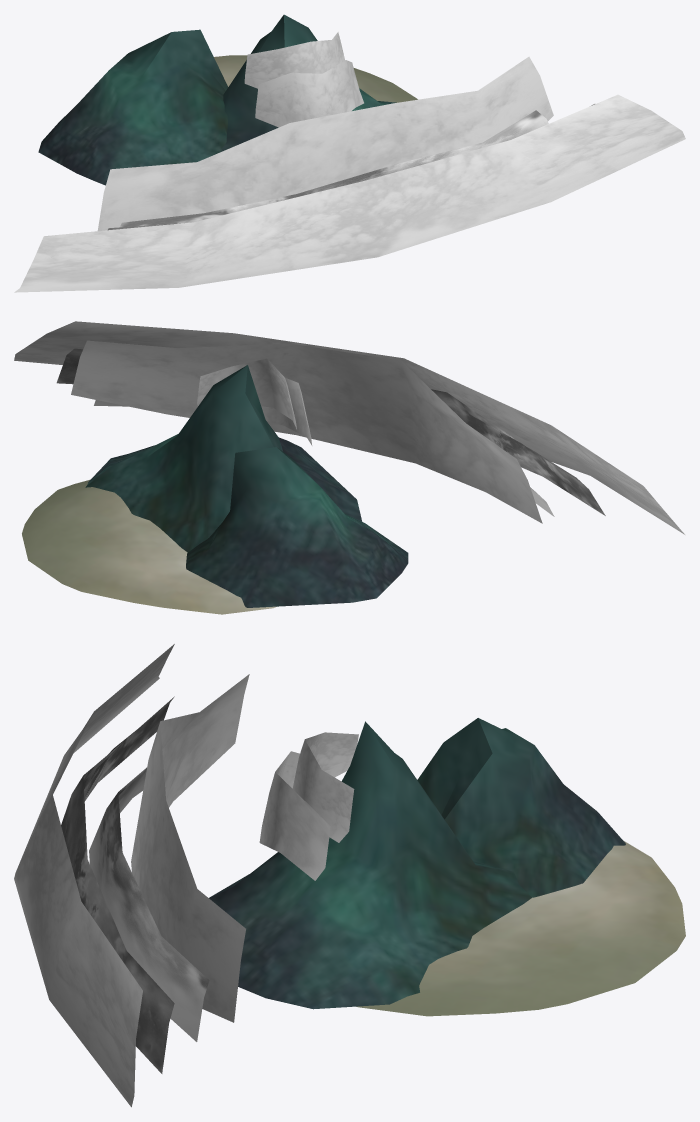
Rendered from pir_m_are_isl_mysterious_06_dock_lod.fbx.
3 views of the same model, one above another, from view 1: azimuth 30°, elevation 25°; view 2: azimuth 150°, elevation 25°; view 3: azimuth 270°, elevation 25° (orthographic). The views are drawn at different scales.
Parts seen in each view (by area): view 1: base_fog2, base_fog, hill1, base_fog6, hill, base_fog5, base_fog3, ground; view 2: base_fog, hill1, hill, ground, base_fog2, base_fog4, base_fog3, base_fog6; view 3: hill, ground, hill1, base_fog2, base_fog, base_fog5, base_fog4, base_fog6, base_fog3.
Boxes of the visible parts, <box> form: base_fog2: <box>14,94,685,292</box>; base_fog: <box>97,56,553,230</box>; hill1: <box>38,29,228,185</box>; base_fog6: <box>255,60,363,127</box>; hill: <box>221,14,396,151</box>; base_fog5: <box>120,110,548,227</box>; base_fog3: <box>244,32,344,88</box>; ground: <box>214,55,417,102</box>; base_fog: <box>71,340,542,523</box>; hill1: <box>186,447,408,607</box>; hill: <box>85,365,361,552</box>; ground: <box>22,480,276,614</box>; base_fog2: <box>14,321,684,534</box>; base_fog4: <box>56,348,605,515</box>; base_fog3: <box>197,358,296,429</box>; base_fog6: <box>261,377,312,445</box>; hill: <box>209,721,531,1009</box>; ground: <box>356,840,685,1016</box>; hill1: <box>417,718,625,897</box>; base_fog2: <box>14,644,174,1107</box>; base_fog: <box>131,674,249,1022</box>; base_fog5: <box>89,767,209,1041</box>; base_fog4: <box>61,696,174,1073</box>; base_fog6: <box>259,751,330,880</box>; base_fog3: <box>292,732,358,842</box>.
Size of the model in its own units: 549397 by 116081 by 363279.
3 materials, 3 textured.
